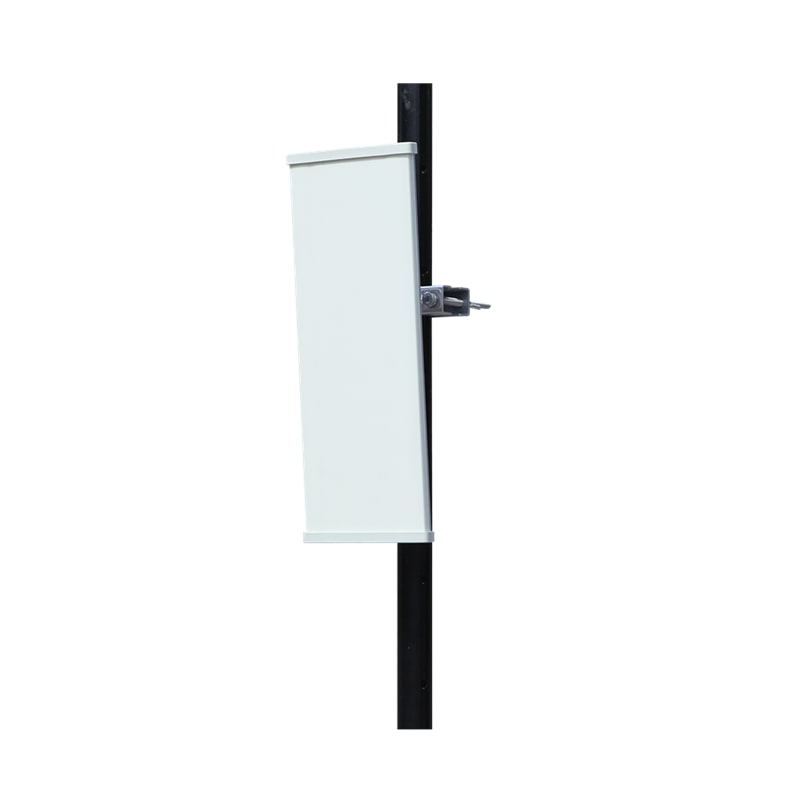sa: (243, 64, 522, 764)
